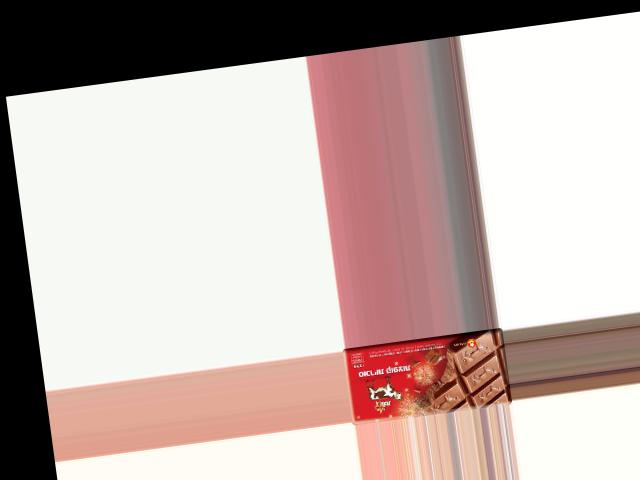chocolate: (341, 327, 511, 424)
